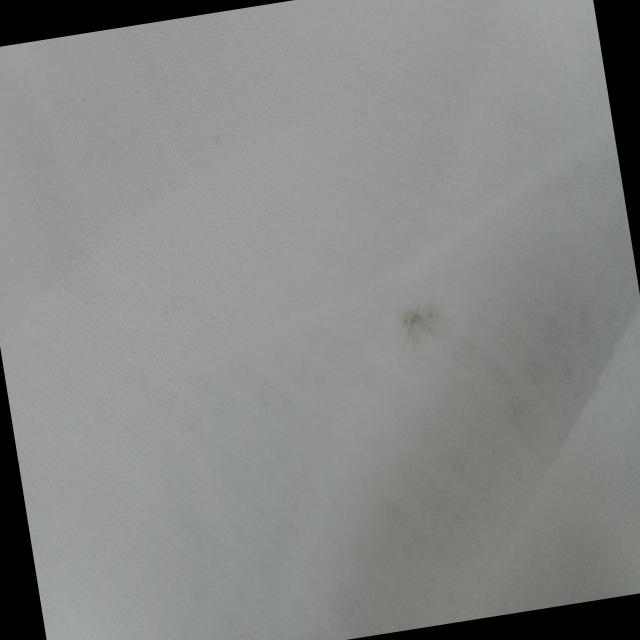stain: (390, 292, 447, 353)
